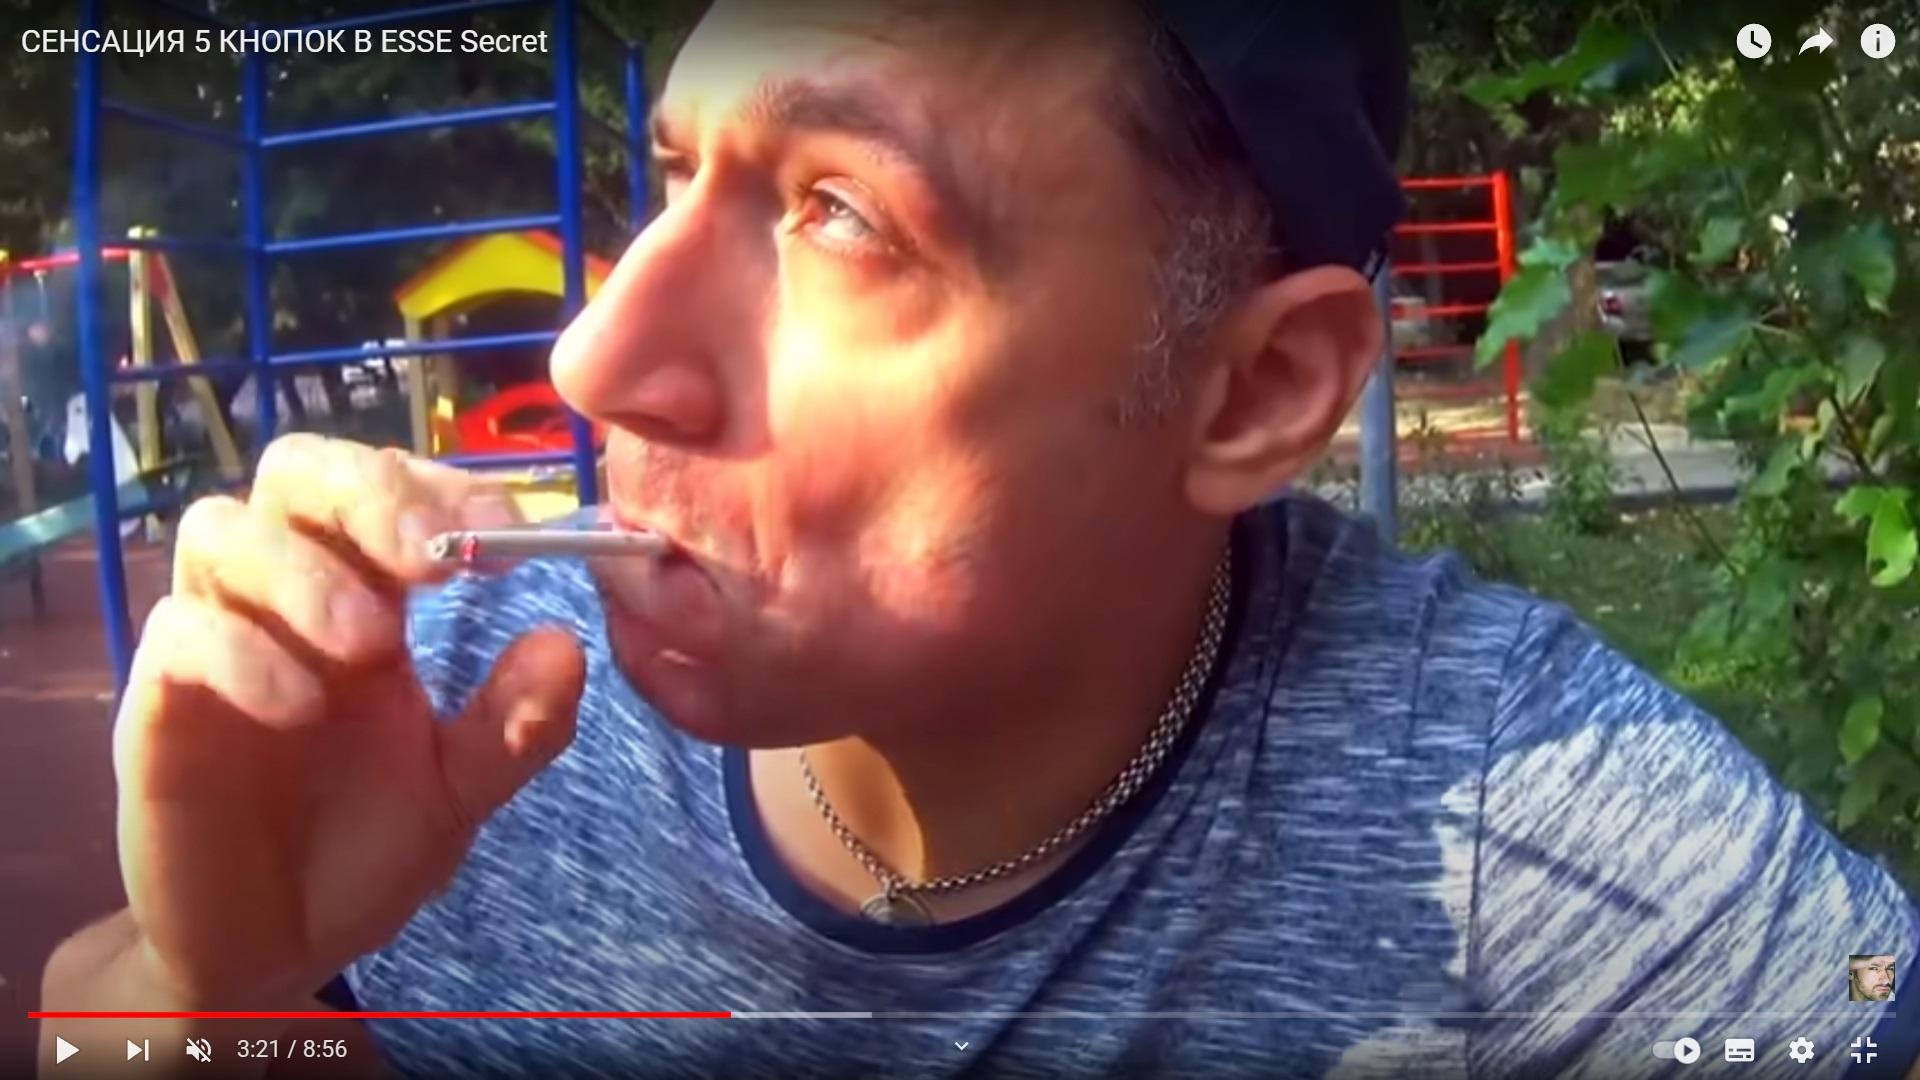cigarette: (427, 529, 673, 562)
